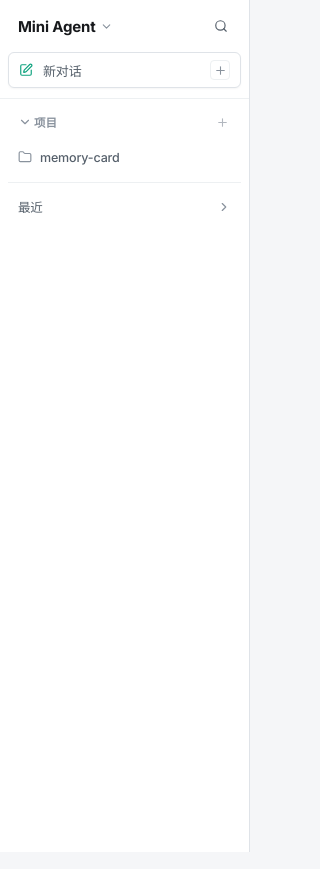
Test: Sidebar project creation › can collapse and expand the project section independently from recent sessions
This screenshot has width=320, height=869.
Check: the text "memory-card" is shown, box [40, 150, 120, 164]
Click the button "项目". click: [38, 122]
box: [18, 114, 57, 130]
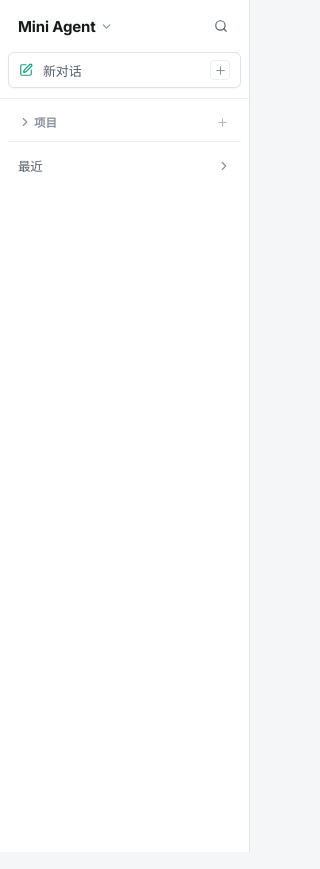
Check: the button "项目" is collapsed
Check: the text "memory-card" is gone
Click the button "项目". click: [38, 122]
box: [18, 114, 57, 130]
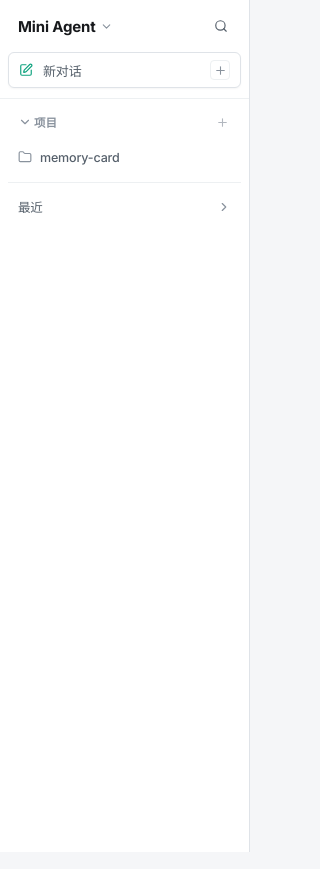
Check: the text "memory-card" is shown, box [40, 150, 120, 164]
